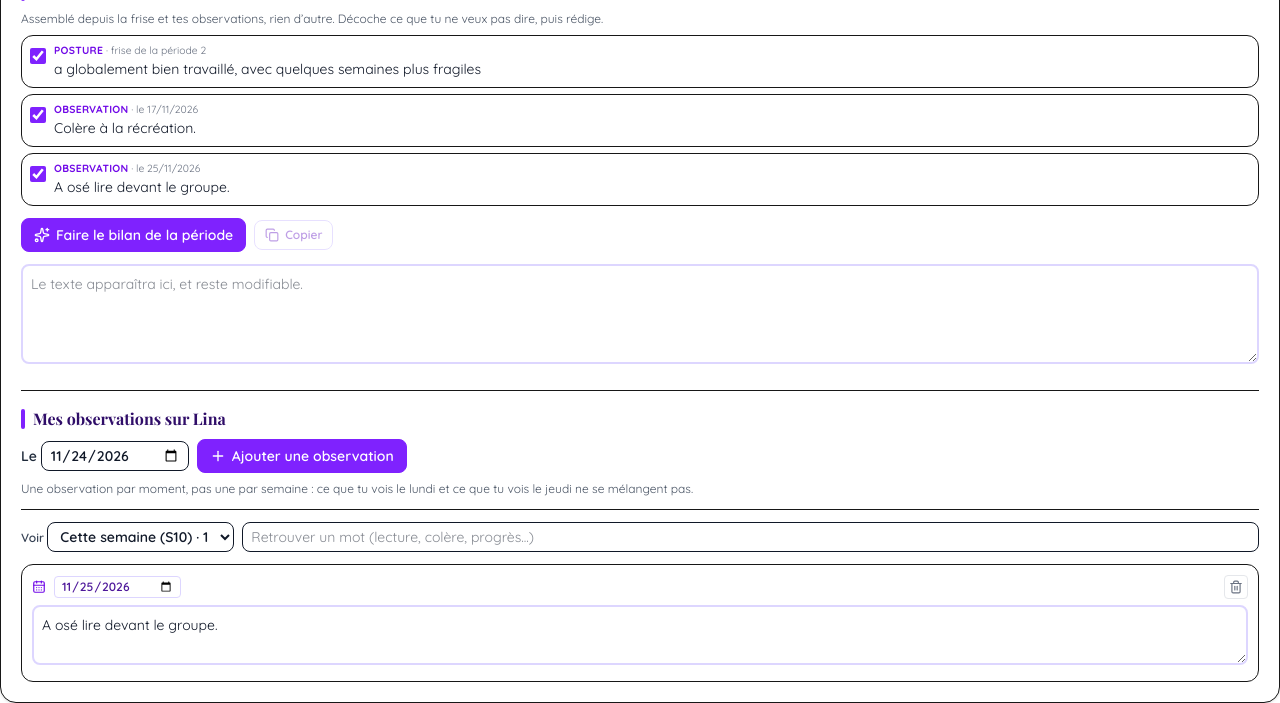
Test: SuiviEleves, retrouver une observation › retrouve une note d’une autre période, étiquetée de sa semaine
(page scrolled)
Select "Période 1 · 1" in the dropdown named "quelles observations afficher" at coordinates (141, 537), box [47,522,234,552]
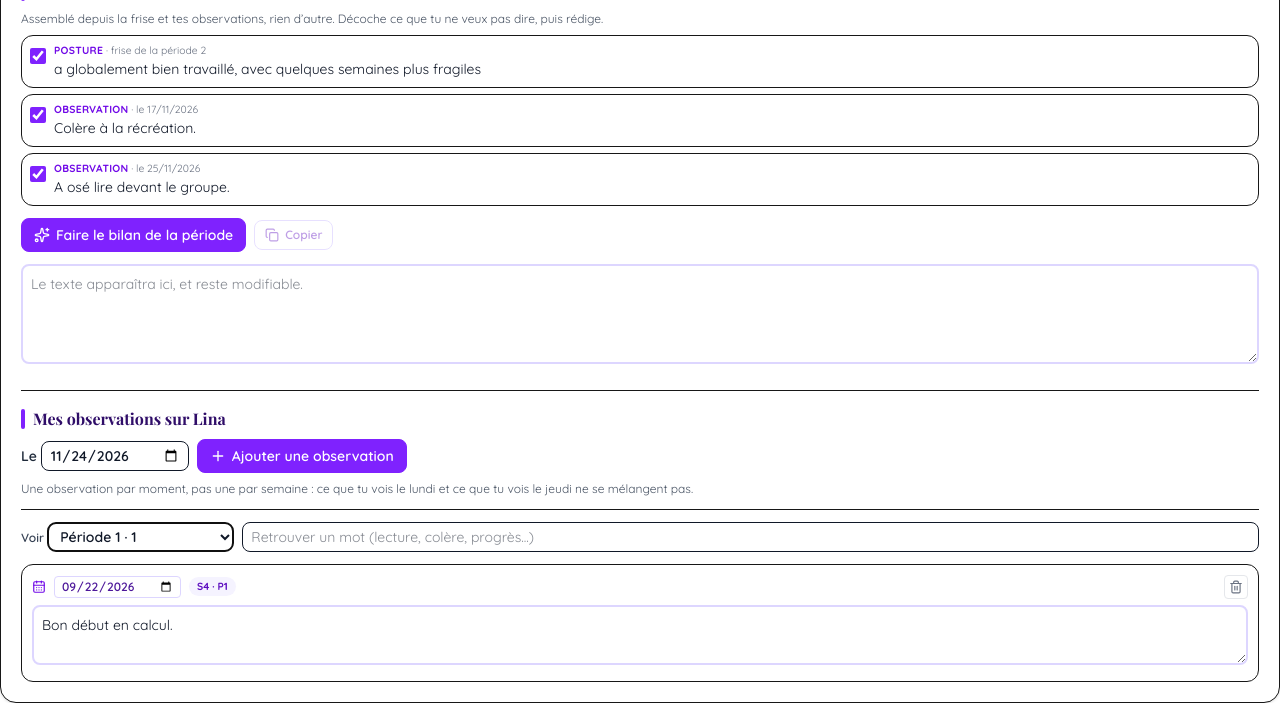
Expected: the text box named "observation du 22/09/2026" is shown, [32,605,1248,665]
Expected: the text "S4 · P1" is shown, [189,577,236,596]
